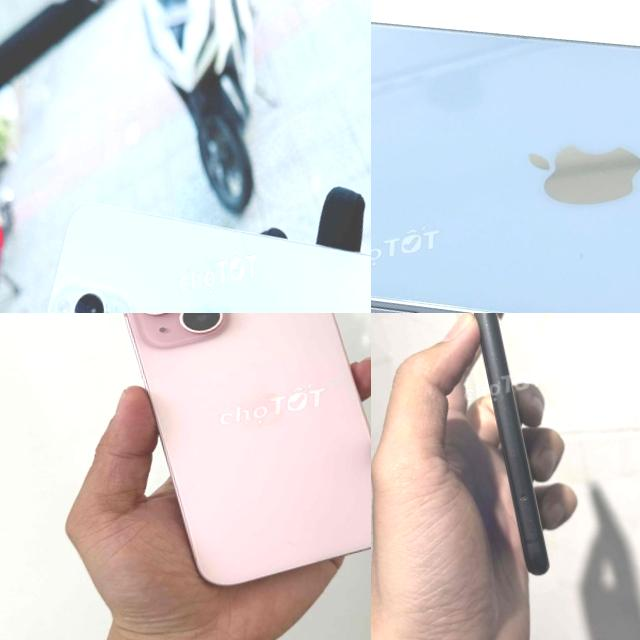gen_11: (424, 313, 578, 567)
gen_14: (371, 0, 640, 313)
gen_15: (90, 313, 371, 627), (0, 139, 371, 313)
scratch: (472, 313, 527, 470)
